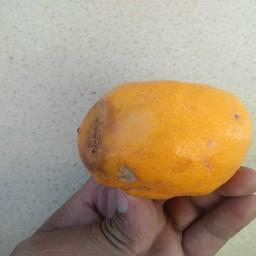Bad_orange: (69, 73, 250, 197)
